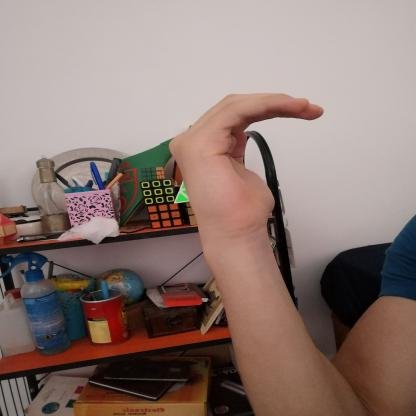HAA: (154, 79, 336, 242)
